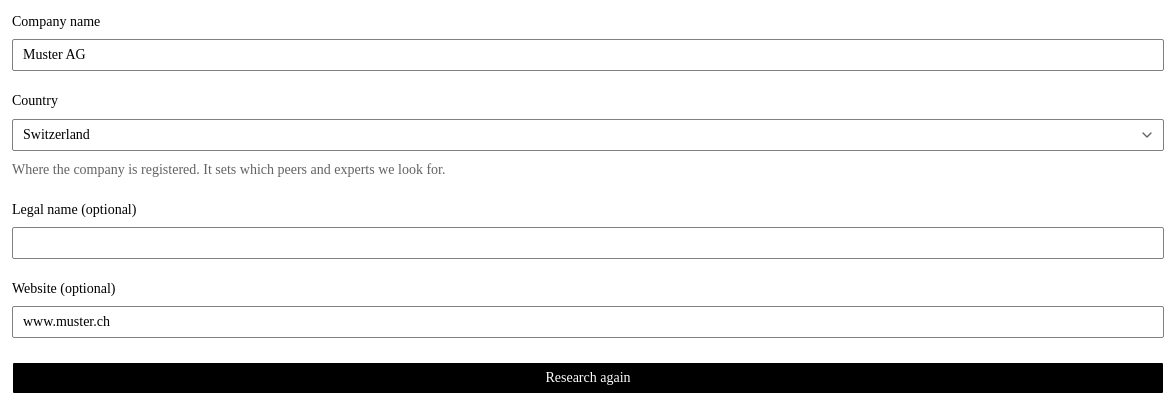
Test: RerunForm (AC-8) › stays disabled after a successful rerun until the page re renders
The width and height of the screenshot is (1176, 411).
Click the button "Research again".
click(588, 378)  # box [12,362,1164,394]
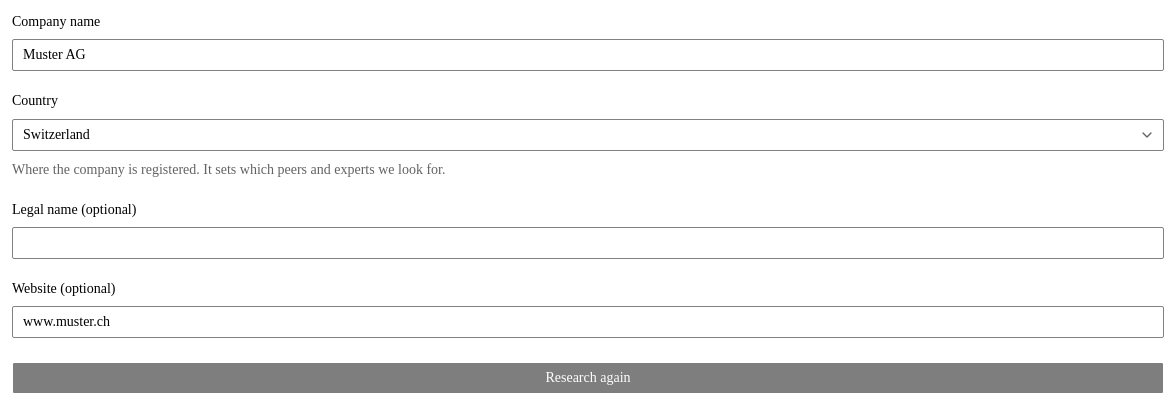
Now the button "Research again" is disabled, box [12,362,1164,394]
